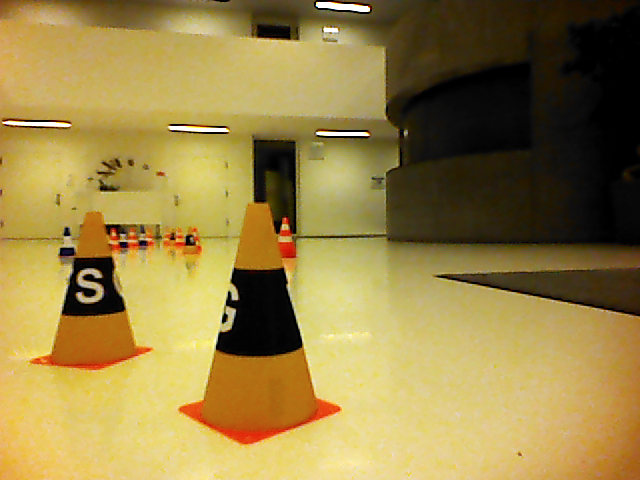yellowcone: (197, 201, 318, 432), (48, 210, 137, 365)
